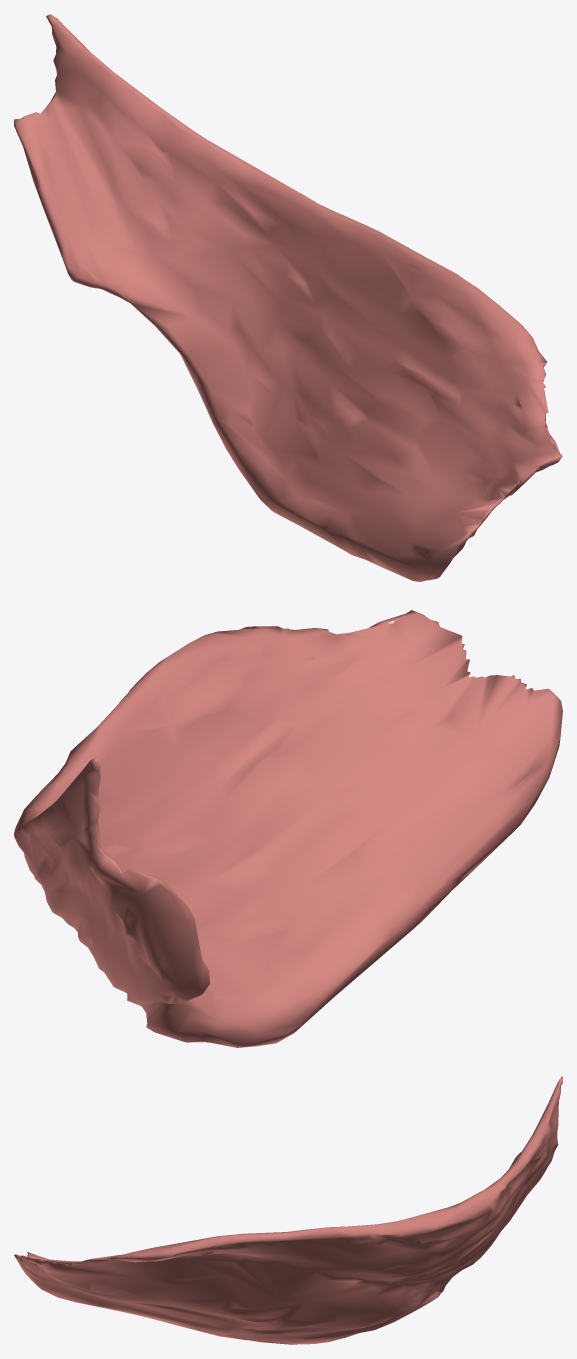
3 renders of one model, top to bottom at view 1: azimuth 30°, elevation 25°; view 2: azimuth 150°, elevation 25°; view 3: azimuth 270°, elevation 25°, orthographic. The views are drawn at different scales.
Parts seen in each view (by area): view 1: ZA_bdd7cd4e0e78b00b; view 2: ZA_bdd7cd4e0e78b00b; view 3: ZA_bdd7cd4e0e78b00b.
Part boxes in pixels (box(x1,y1,x2,y2)): ZA_bdd7cd4e0e78b00b: box(14, 14, 562, 581); ZA_bdd7cd4e0e78b00b: box(14, 610, 562, 1047); ZA_bdd7cd4e0e78b00b: box(14, 1076, 562, 1344).
Size of the model in its own units: 0.0333 by 0.0483 by 0.0936.
